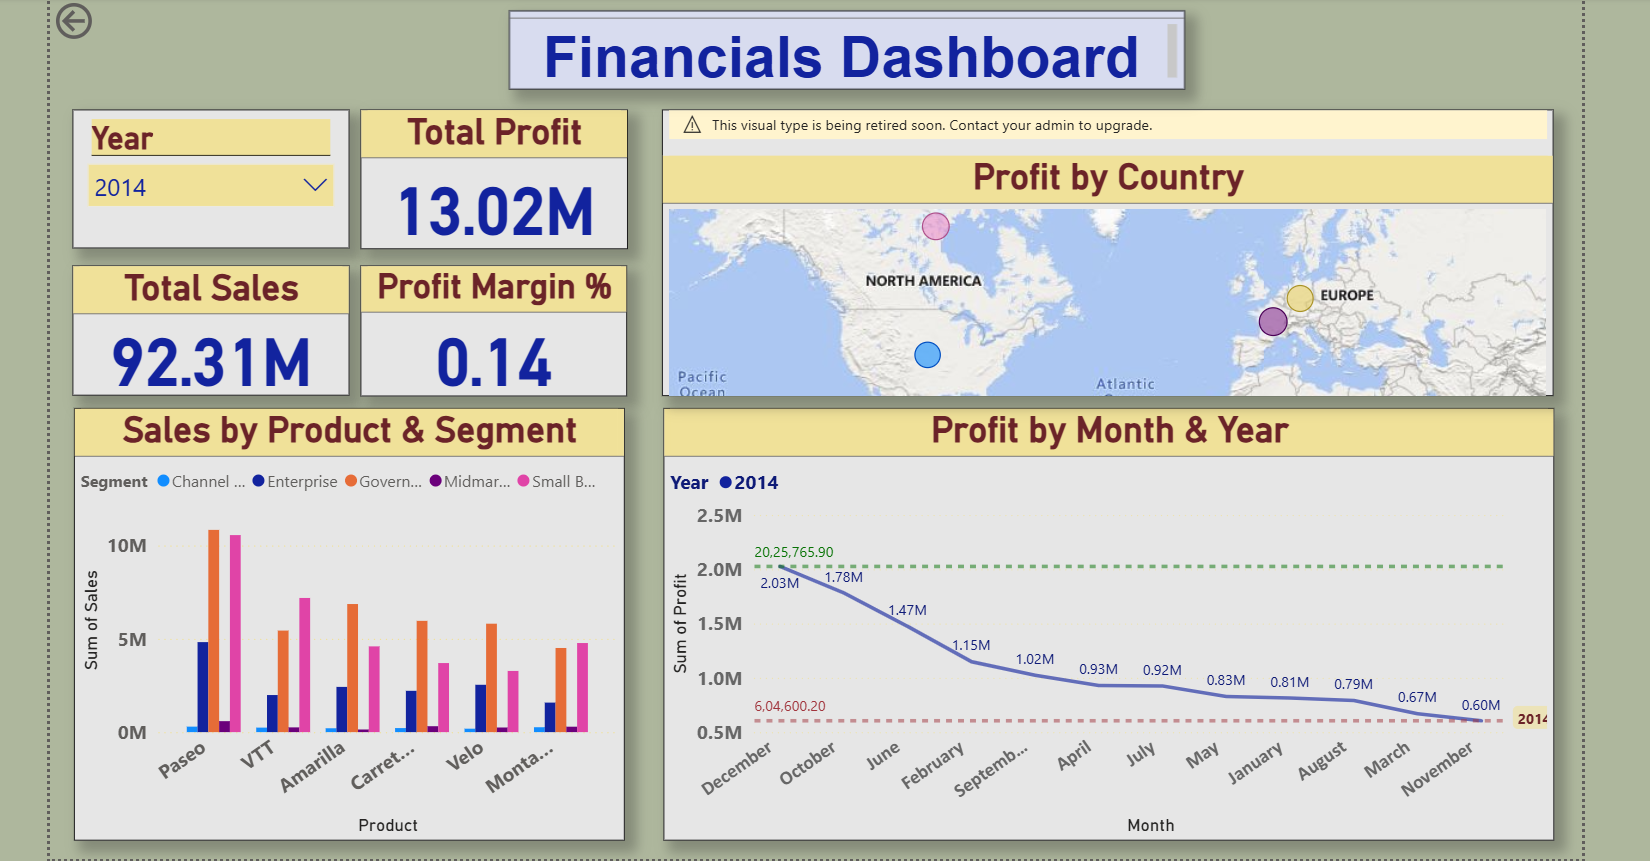

This screenshot's page, from the dashboard's own definition file:
{"tool":"powerbi","page":{"name":"Page 1","canvas":[1280,720],"ordinal":0},"visuals":[{"type":"slicer","fields":{"Values":["Financials.Year"]},"box":[19.4,94.3,231.1,116.2],"z":0},{"type":"card","title":"Total Profit","fields":{"Values":["Financials.Total Profit"]},"box":[259.5,94.3,223.4,116.2],"z":1000},{"type":"card","title":"Total Sales","fields":{"Values":["Financials.Total Sales"]},"box":[19.4,224.7,231.1,108.5],"z":2000},{"type":"card","title":"Profit Margin %","fields":{"Values":["Financials.Profit Margin %"]},"box":[259.9,224.5,223,109.2],"z":3000},{"type":"lineChart","title":"Profit by Month & Year","fields":{"Y":["Sum(Financials.Profit)"],"Series":["Financials.Year"],"Category":["Financials.Month"]},"box":[512.1,342.9,744.3,361.4],"z":4000},{"type":"clusteredColumnChart","title":"Sales by Product & Segment","fields":{"Category":["Financials.Product"],"Series":["Financials.Segment"],"Y":["Sum(Financials. Sales)"]},"box":[20,342.9,459.8,361.4],"z":5000},{"type":"map","title":"Profit by Country","fields":{"Category":["Financials.Country"],"Size":["Sum(Financials.Profit)"]},"box":[512.1,100,744.3,233.8],"z":6000},{"type":"textbox","box":[382.9,10.8,564.4,66.1],"z":7000},{"type":"actionButton","box":[0,0,100,40],"z":8000}]}

Visuals, with their boxes on the page's 1280x720 design canvas (x1, y1, x2, y2). These are canvas units, not pixel positions in the 1650x861 screenshot, which may show the page scaled, cropped or inside an application window:
slicer - Financials.Year: x1=19, y1=94, x2=250, y2=210
"Total Profit" card: x1=260, y1=94, x2=483, y2=210
"Total Sales" card: x1=19, y1=225, x2=250, y2=333
"Profit Margin %" card: x1=260, y1=224, x2=483, y2=334
"Profit by Month & Year" lineChart: x1=512, y1=343, x2=1256, y2=704
"Sales by Product & Segment" clusteredColumnChart: x1=20, y1=343, x2=480, y2=704
"Profit by Country" map: x1=512, y1=100, x2=1256, y2=334
textbox: x1=383, y1=11, x2=947, y2=77
actionButton: x1=0, y1=0, x2=100, y2=40
